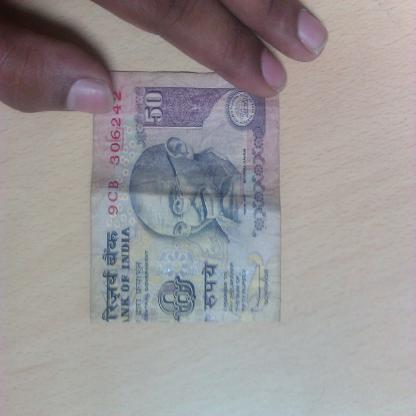Old50Front: (88, 69, 282, 326)
